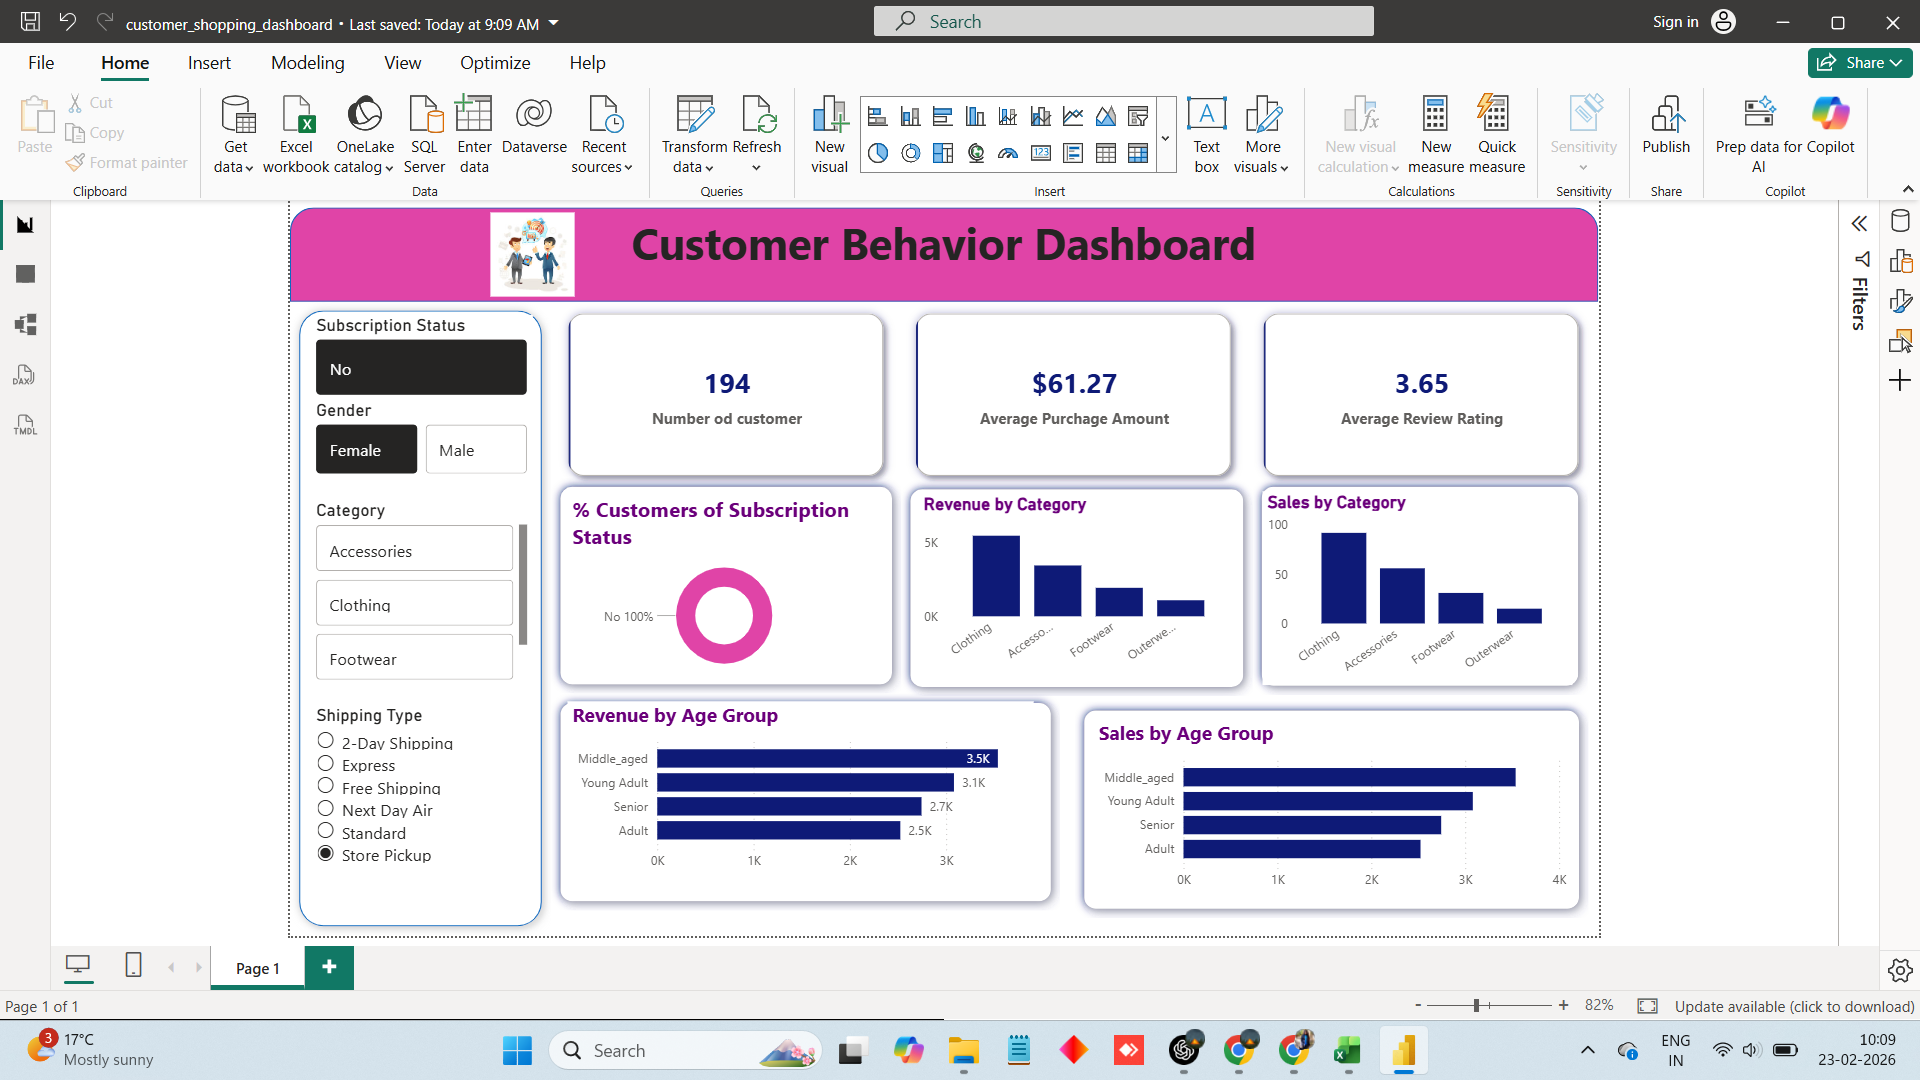

The dashboard page shown, as its layout file describes it:
{"tool":"powerbi","page":{"name":"Page 1","canvas":[1280,720],"ordinal":0},"visuals":[{"type":"cardVisual","fields":{"Data":["customer_shopping customer.Number od customer","customer_shopping customer.Average Purchage Amount","customer_shopping customer.Average Review Rating"]},"box":[255.6,94.2,1024.7,193.2],"z":0},{"type":"shape","box":[255.6,271.5,342.4,211.6],"z":1000},{"type":"shape","box":[0,7.2,1279.7,92.3],"z":2000},{"type":"textbox","box":[10.1,7.2,1259.5,69.3],"z":3000},{"type":"donutChart","title":"% Customers of Subscription Status","fields":{"Category":["customer_shopping customer.subscription_status"],"Y":["CountNonNull(customer_shopping customer.customer_id)"]},"box":[271.5,288.6,306.9,183.4],"z":4000},{"type":"shape","box":[598,273.9,343.6,211.6],"z":5000},{"type":"shape","box":[941.6,271.5,327.7,212.8],"z":6000},{"type":"clusteredColumnChart","title":"Revenue by Category","fields":{"Category":["customer_shopping customer.category"],"Y":["Sum(customer_shopping customer.purchase_amount)"]},"box":[615.1,287.4,310.6,176.1],"z":7000},{"type":"clusteredColumnChart","title":"Sales by Category","fields":{"Category":["customer_shopping customer.category"],"Y":["CountNonNull(customer_shopping customer.customer_id)"]},"box":[951.4,284.9,303.3,189.5],"z":8000},{"type":"shape","box":[0,99.6,255.4,620.4],"z":9000},{"type":"advancedSlicerVisual","fields":{"Values":["customer_shopping customer.subscription_status"]},"box":[20.2,112.5,216.4,83.7],"z":10000},{"type":"advancedSlicerVisual","fields":{"Values":["customer_shopping customer.gender"]},"box":[20.2,196.2,216.4,77.9],"z":11000},{"type":"advancedSlicerVisual","fields":{"Values":["customer_shopping customer.category"]},"box":[20.2,292.9,216.4,180.3],"z":12000},{"type":"shape","box":[255.4,483.3,497.8,212.1],"z":12500},{"type":"clusteredBarChart","title":"Revenue by Age Group","fields":{"Category":["customer_shopping customer.age_group"],"Y":["Sum(customer_shopping customer.purchase_amount)"]},"box":[271.2,490.5,455.9,174.6],"z":13000},{"type":"listSlicer","fields":{"Values":["customer_shopping customer.shipping_type"]},"box":[20.2,493.4,216.4,209.2],"z":14000},{"type":"shape","box":[767.5,490.5,502.1,212.1],"z":15001},{"type":"clusteredBarChart","title":"Sales by Age Group","fields":{"Category":["customer_shopping customer.age_group"],"Y":["Sum(customer_shopping customer.purchase_amount)"]},"box":[786.3,509.3,467.5,174.6],"z":15002},{"type":"image","box":[173.1,7.2,127,92.3],"z":15003}]}

Visuals, with their boxes on the page's 1280x720 design canvas (x1, y1, x2, y2). These are canvas units, not pixel positions in the 1920x1080 screenshot, which may show the page scaled, cropped or inside an application window:
cardVisual - customer_shopping customer.Number od customer x customer_shopping customer.Average Purchage Amount: <box>256,94,1280,287</box>
shape: <box>256,272,598,483</box>
shape: <box>0,7,1280,100</box>
textbox: <box>10,7,1270,76</box>
"% Customers of Subscription Status" donutChart: <box>272,289,578,472</box>
shape: <box>598,274,942,486</box>
shape: <box>942,272,1269,484</box>
"Revenue by Category" clusteredColumnChart: <box>615,287,926,464</box>
"Sales by Category" clusteredColumnChart: <box>951,285,1255,474</box>
shape: <box>0,100,255,720</box>
advancedSlicerVisual - customer_shopping customer.subscription_status: <box>20,112,237,196</box>
advancedSlicerVisual - customer_shopping customer.gender: <box>20,196,237,274</box>
advancedSlicerVisual - customer_shopping customer.category: <box>20,293,237,473</box>
shape: <box>255,483,753,695</box>
"Revenue by Age Group" clusteredBarChart: <box>271,490,727,665</box>
listSlicer - customer_shopping customer.shipping_type: <box>20,493,237,703</box>
shape: <box>768,490,1270,703</box>
"Sales by Age Group" clusteredBarChart: <box>786,509,1254,684</box>
image: <box>173,7,300,100</box>
